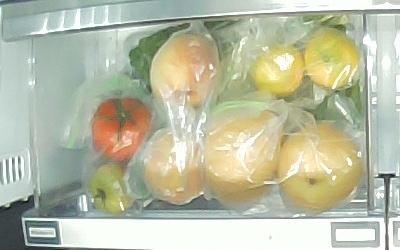peach_vinyl: (149, 32, 221, 109), (144, 129, 208, 203)
pear_vinyl: (276, 124, 362, 211), (205, 110, 283, 204)
tangerine_vinyl: (303, 26, 362, 91), (252, 41, 304, 96)
tomato_vinyl: (90, 98, 152, 163), (88, 162, 138, 214)
